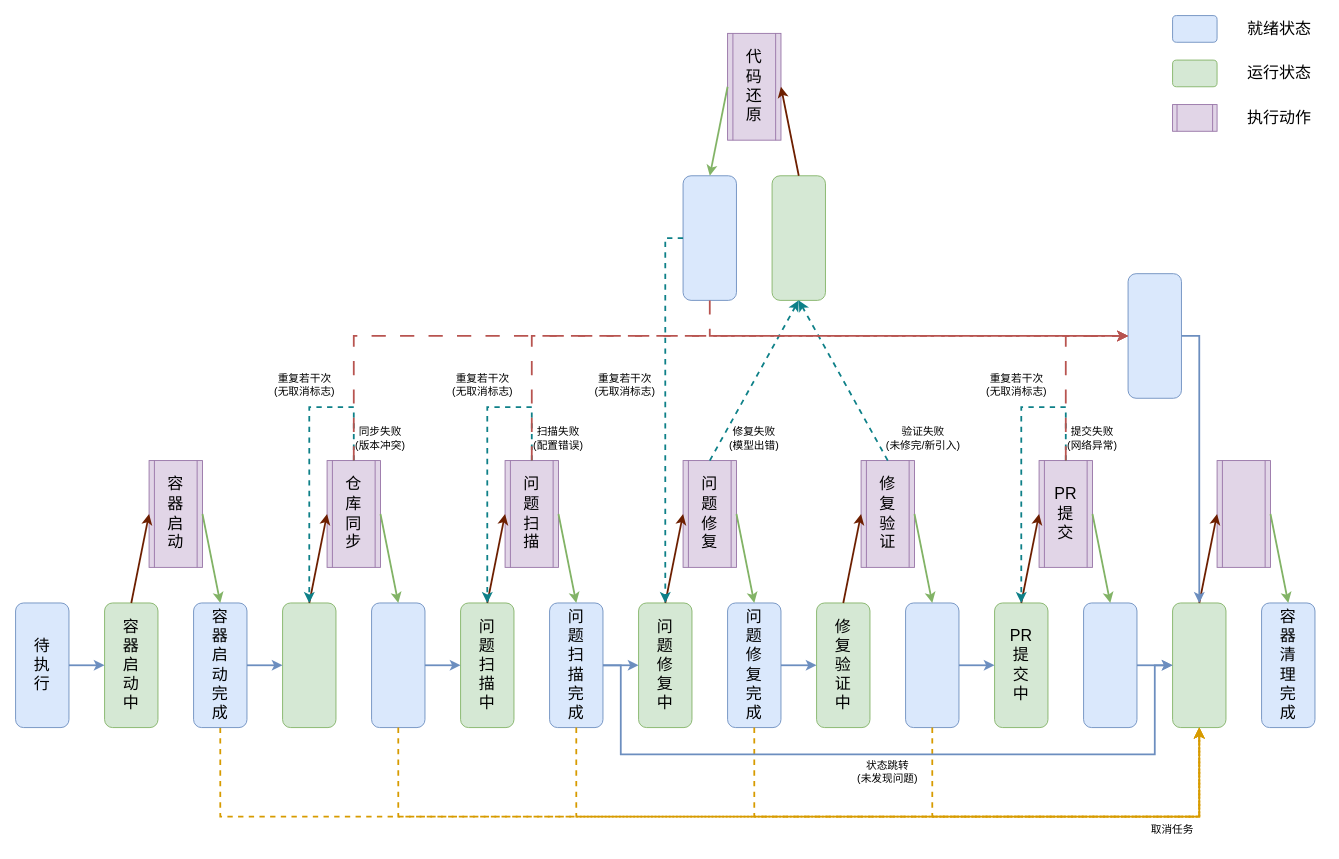
Some shapes in this 1339 by 859 pixel diagram are drawn without their labels. Each missing label, with the box of its shape:
PR 提 交 完 成: (1083, 602, 1137, 728)
仓 库 同 步 中: (282, 602, 336, 728)
仓 库 同 步 完 成: (371, 602, 425, 728)
代 码 还 原 中: (771, 175, 825, 300)
代 码 还 原 完 成: (682, 175, 736, 300)
修 复 验 证 完 成: (905, 602, 959, 728)
容 器 清 理: (1216, 460, 1270, 567)
容 器 清 理 中: (1172, 602, 1226, 728)
执 行 失 败: (1127, 273, 1181, 398)
